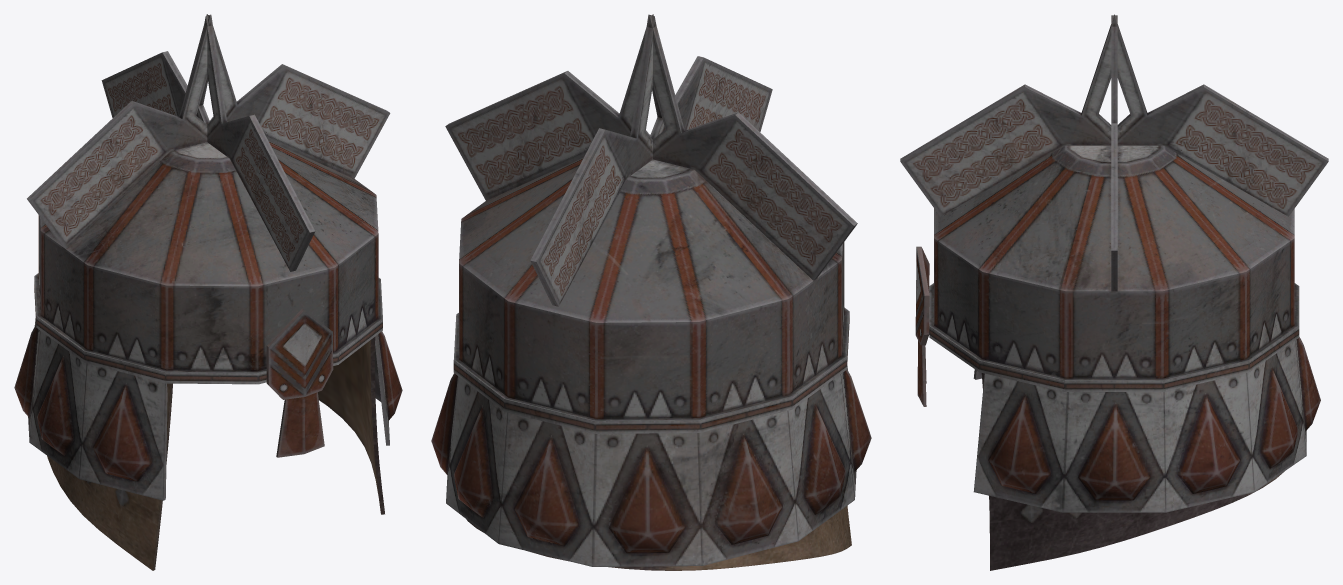
Rendered from sk_dwarf_iron_helmet_elite_a1.fbx.
The picture shows the model from 3 angles, left to right: view 1: azimuth 30°, elevation 25°; view 2: azimuth 150°, elevation 25°; view 3: azimuth 270°, elevation 25°; orthographic projection. The views are drawn at different scales.
Parts seen in each view (by area): view 1: sk_dwarf_iron_helmet_elite_a1; view 2: sk_dwarf_iron_helmet_elite_a1; view 3: sk_dwarf_iron_helmet_elite_a1.
Part boxes in pixels (box(x1,y1,x2,y2)): sk_dwarf_iron_helmet_elite_a1: box(14, 14, 402, 570); sk_dwarf_iron_helmet_elite_a1: box(431, 14, 871, 570); sk_dwarf_iron_helmet_elite_a1: box(900, 14, 1328, 570).
Bounding box in the file's own units: 0.3245 × 0.3245 × 0.4159.
